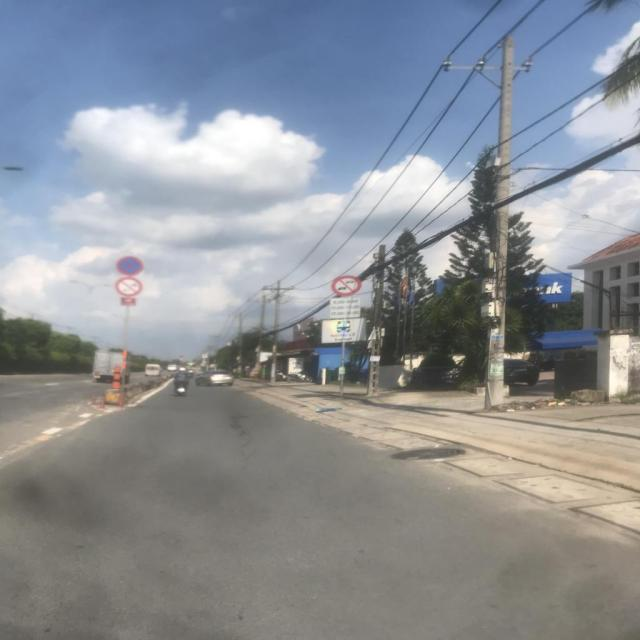cam_dung_xe_va_do_xe: (115, 256, 144, 276)
cam_o_to_tai_va_xe_khach: (330, 275, 362, 297)
cam_xe_2_banh_va_xe_3_banh_co_dong_co: (115, 277, 144, 297)
khac: (321, 317, 367, 343), (331, 298, 361, 318)
